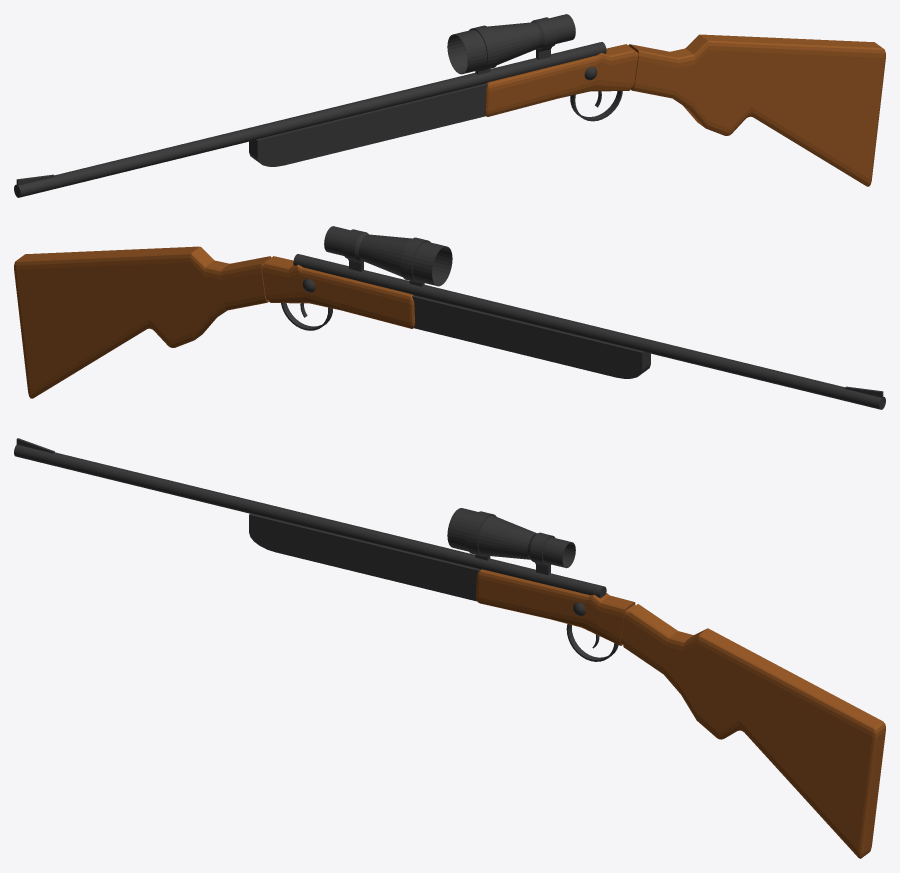
The model's file is Sniper.fbx.
3 renders of one model, top to bottom at view 1: azimuth 30°, elevation 25°; view 2: azimuth 150°, elevation 25°; view 3: azimuth 330°, elevation 25°, orthographic.
Visible parts, largest first — view 1: Circle; view 2: Circle; view 3: Circle.
Part boxes in pixels (x1,y1,x2,y2): Circle: (14,14,885,197); Circle: (14,226,885,409); Circle: (14,438,885,858).
Bounding box in the file's own units: 541 × 149 × 23.68.
